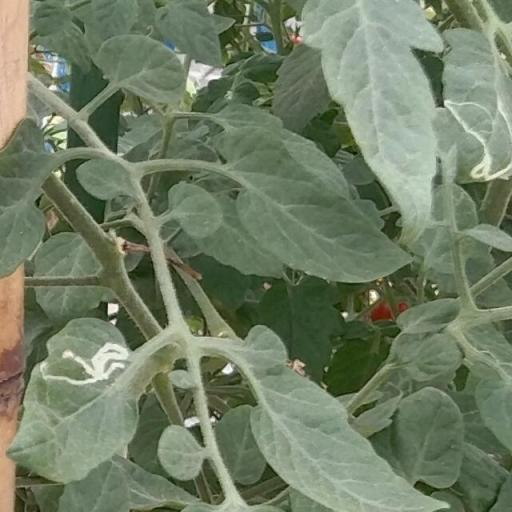disease_tomato: (5, 315, 143, 485), (438, 22, 512, 184)
